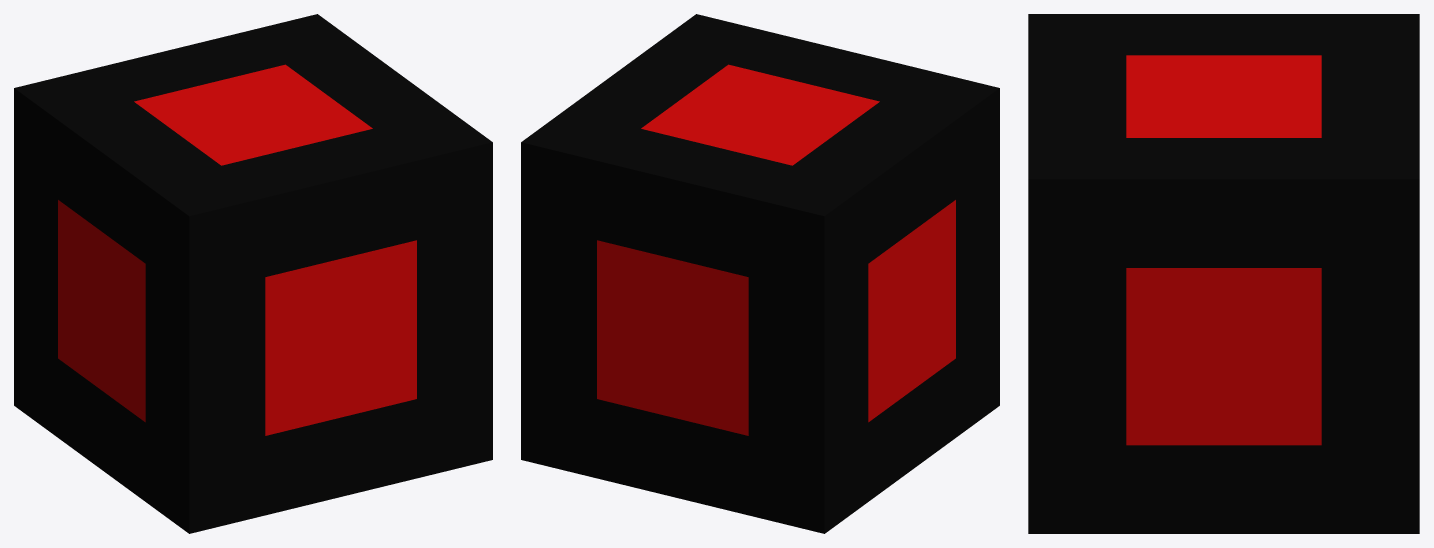
File: bounding_cube_2.glb
The picture shows the model from 3 angles, left to right: view 1: azimuth 30°, elevation 25°; view 2: azimuth 150°, elevation 25°; view 3: azimuth 270°, elevation 25°; orthographic projection. The views are drawn at different scales.
Visible parts, largest first — view 1: custom; view 2: custom; view 3: custom.
Part boxes in pixels (bbox=[...]): custom: bbox=[14, 14, 492, 533]; custom: bbox=[521, 14, 999, 533]; custom: bbox=[1028, 14, 1419, 533].
Size of the model in its own units: 1 by 1 by 1.
